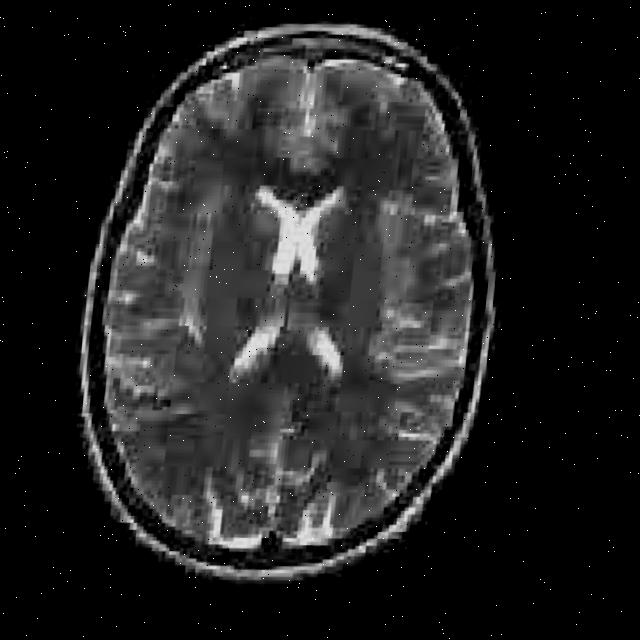NoTumor: (69, 30, 506, 574)
